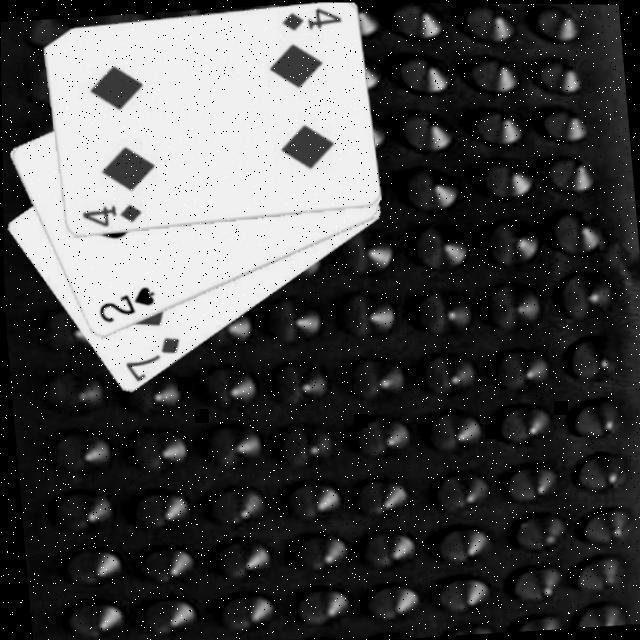2S: (92, 281, 160, 325)
4D: (76, 199, 144, 230), (277, 3, 345, 34)
7D: (118, 332, 186, 382)
